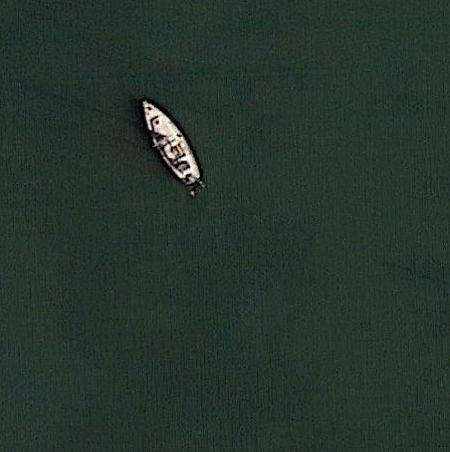Boat: (136, 96, 212, 200)
